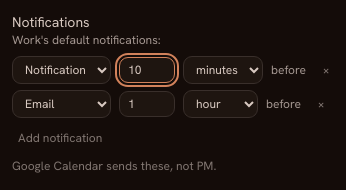
ReminderList › shows the calendar's defaults as rows, and the first change makes them the event's own
Check: the text "Work's default notifications:" is shown, box x1=12 y1=32 x2=161 y2=48
Check: the button "Use Work's defaults" is not shown
Step 1. Replace the text in the field named "How many: 10 minutes before" with "15" → (147, 70), box x1=119 y1=57 x2=175 y2=83
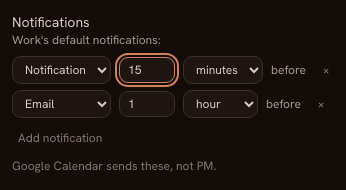
Step 2. Leave the field named "How many: 10 minutes before", box x1=119 y1=57 x2=175 y2=83
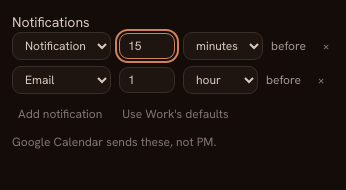
Check: the text "Work's default notifications:" is gone
Check: the button "Use Work's defaults" is shown, box x1=116 y1=102 x2=235 y2=126
